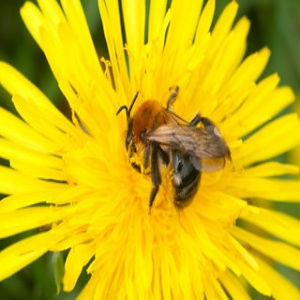bee: (117, 86, 236, 232)
